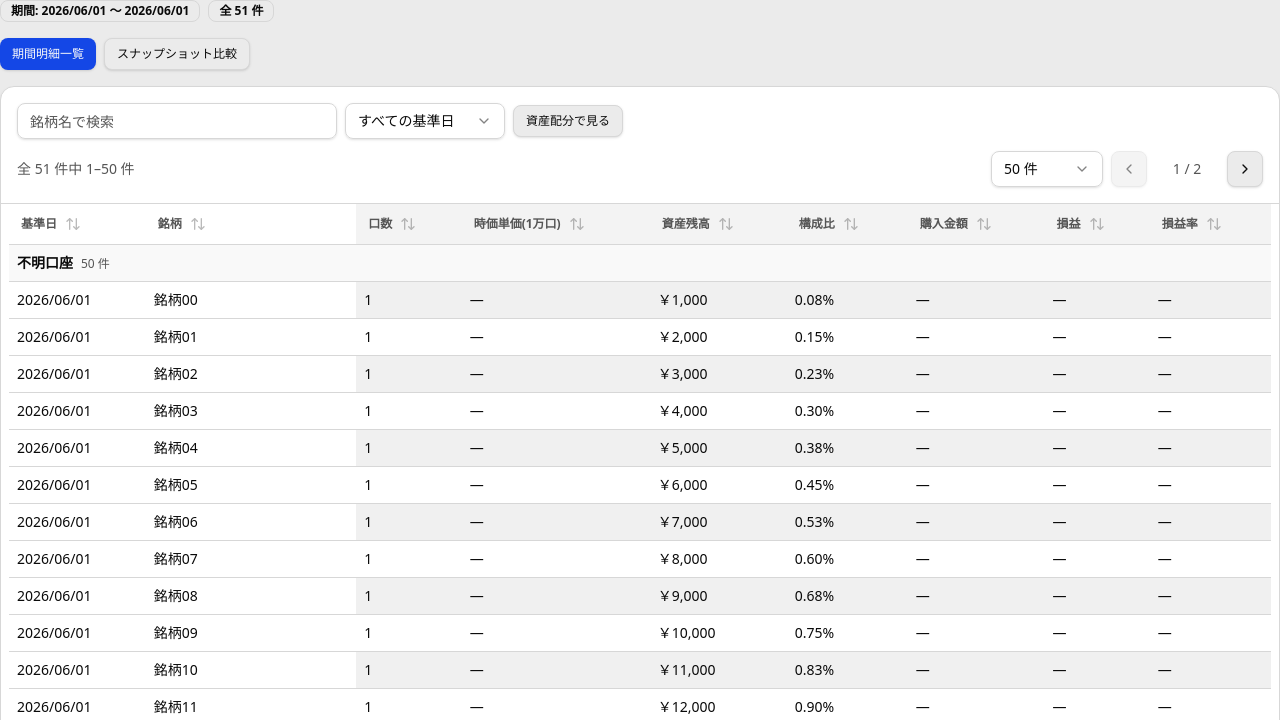
Scenario: HoldingsDetailPanel › sorts all filtered rows before pagination
Check: the text "銘柄00" is shown, box [146,281,356,318]
Check: the text "1 / 2" is shown, box [1173,159,1201,178]
Click the button named "次のページ".
click(1245, 169)  # box [1227,151,1263,187]
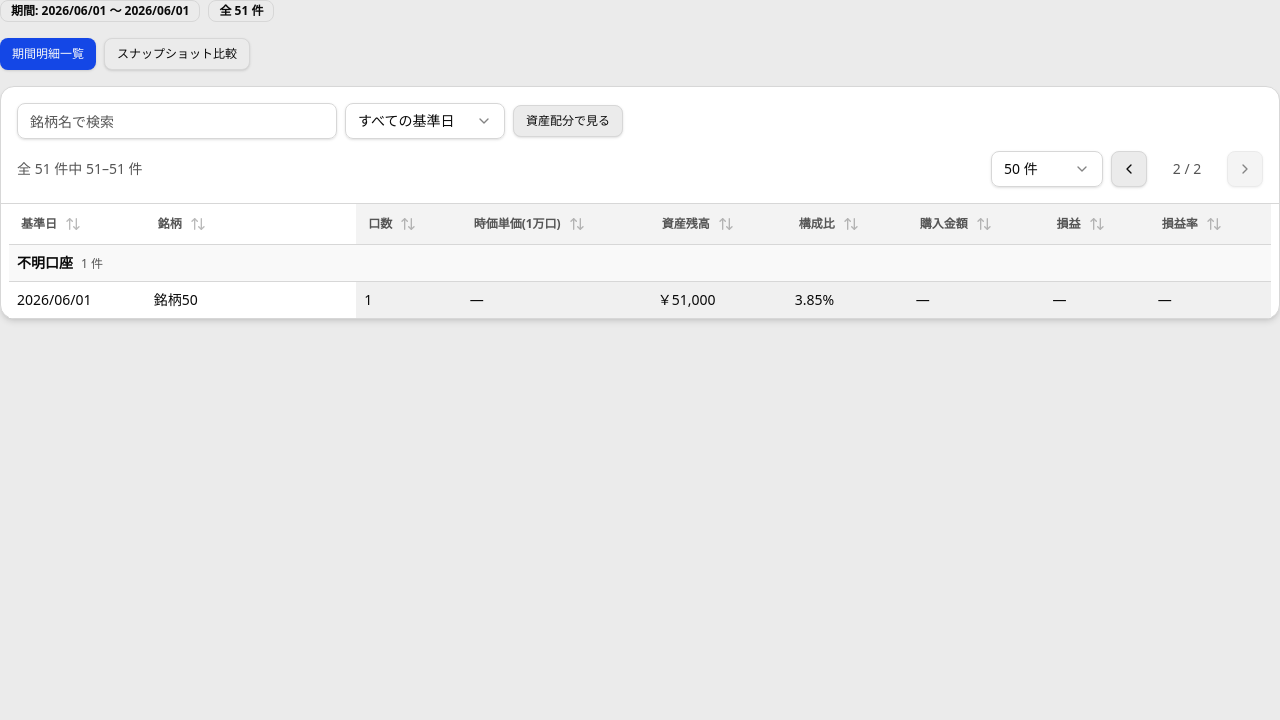
Check: the text "銘柄50" is shown, box [146,281,356,318]
Check: the text "銘柄00" is gone
Click the button "資産残高".
click(698, 224)  # box [650,208,746,240]
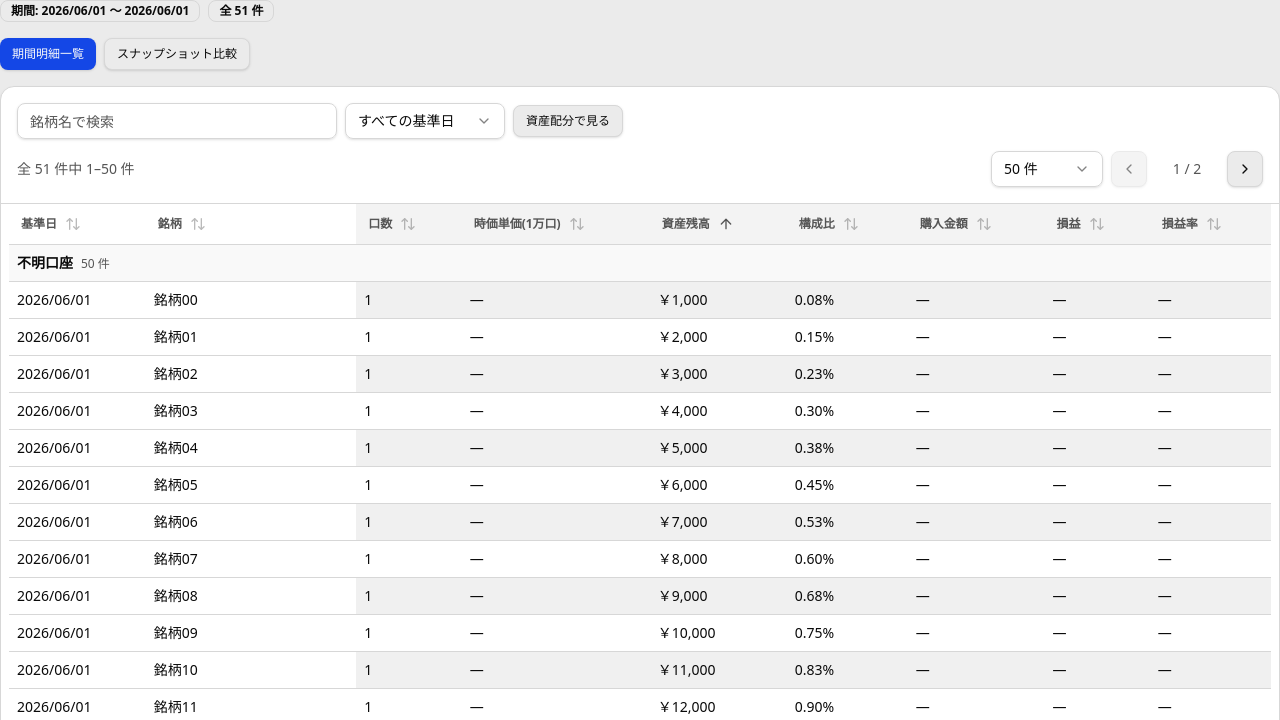
Check: the text "1 / 2" is shown, box [1173,159,1201,178]
Check: the text "銘柄00" is shown, box [146,281,356,318]
Check: the text "銘柄50" is gone
